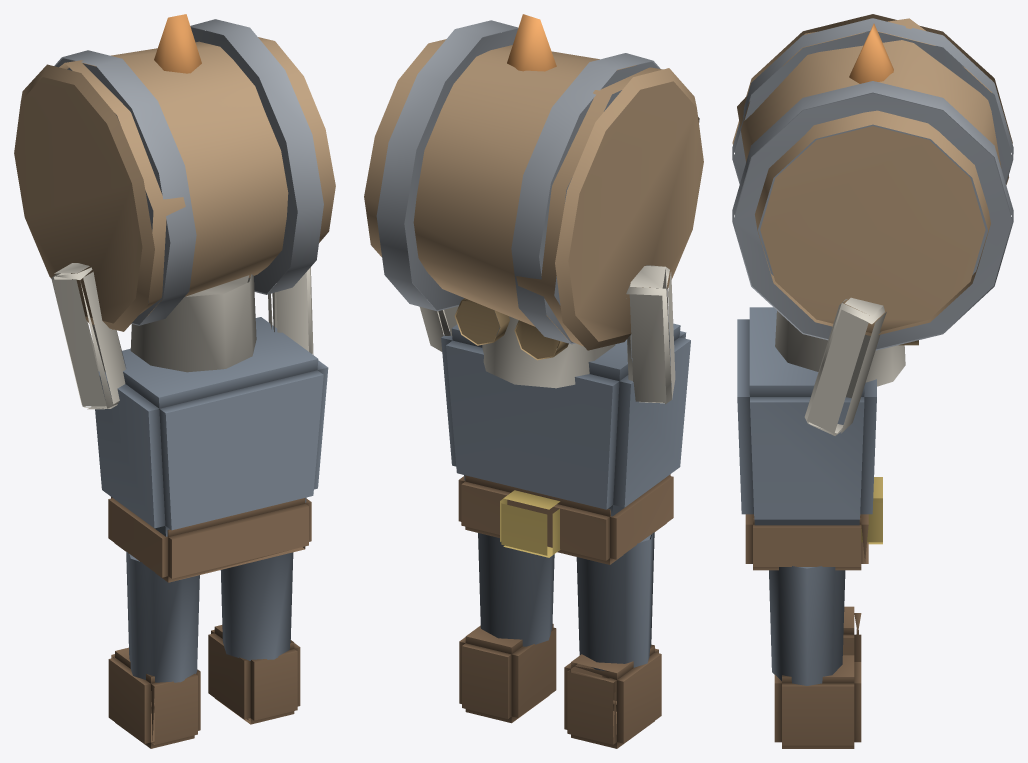
Rendered from thesis_breaker_lod1.glb.
The picture shows the model from 3 angles, left to right: view 1: azimuth 30°, elevation 25°; view 2: azimuth 150°, elevation 25°; view 3: azimuth 270°, elevation 25°; orthographic projection. The views are drawn at different scales.
Visible parts, largest first — view 1: thesis_breaker.001; view 2: thesis_breaker.001; view 3: thesis_breaker.001.
Boxes of the visible parts, box(x1,y1,x2,y2) form: thesis_breaker.001: box(14, 14, 335, 748); thesis_breaker.001: box(364, 14, 703, 748); thesis_breaker.001: box(732, 14, 1013, 748).
Bounding box in the file's own units: 0.7183 × 1.84 × 0.6844.
